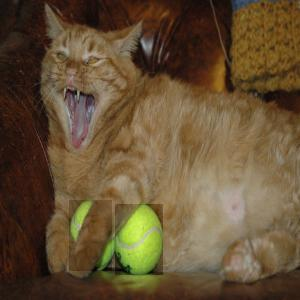TennisBall: (116, 205, 165, 277), (70, 201, 114, 273)
